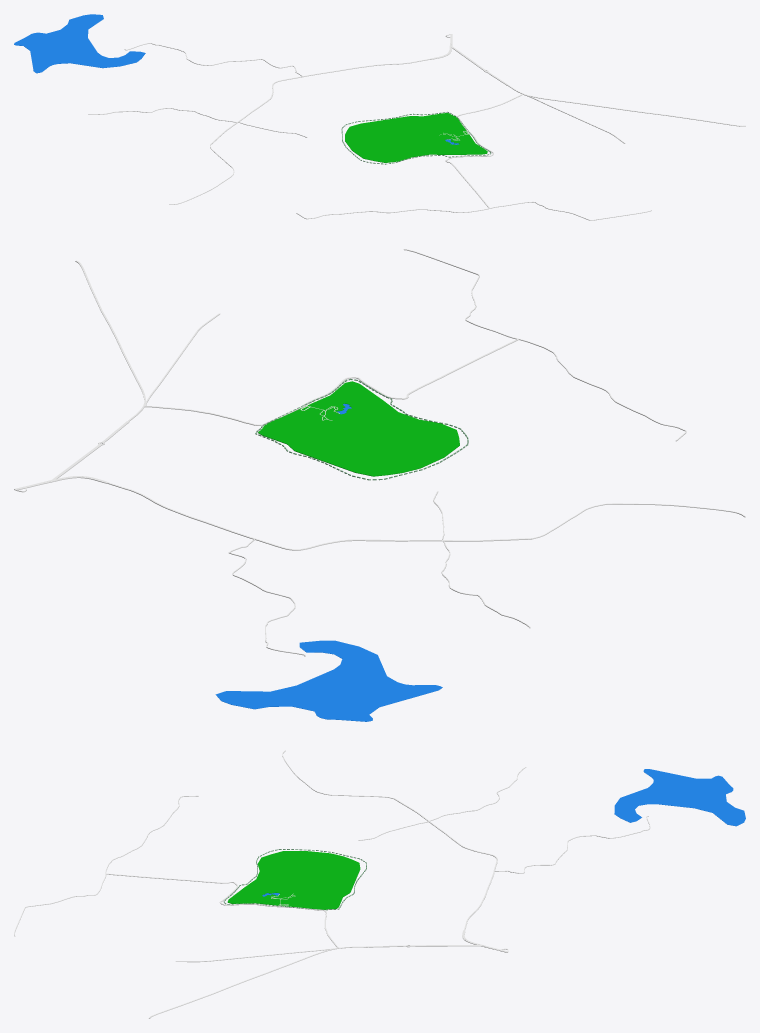
3 views of the same model, one above another, from view 1: azimuth 30°, elevation 25°; view 2: azimuth 150°, elevation 25°; view 3: azimuth 270°, elevation 25° (orthographic). The views are drawn at different scales.
Visible parts, largest first — view 1: green, water, R8, R4, R2, LK; view 2: green, water, R8, R4, R2; view 3: green, water, R8, R4, R2.
Boxes of the visible parts, left/top/right/bottom form: green: left=345, top=113, right=487, bottom=162; water: left=14, top=14, right=458, bottom=144; R8: left=88, top=34, right=651, bottom=220; R4: left=445, top=46, right=745, bottom=208; R2: left=210, top=34, right=452, bottom=144; LK: left=341, top=111, right=491, bottom=164; green: left=258, top=381, right=459, bottom=476; water: left=215, top=403, right=442, bottom=721; R8: left=15, top=249, right=745, bottom=656; R4: left=52, top=260, right=518, bottom=479; R2: left=14, top=476, right=531, bottom=550; green: left=227, top=851, right=360, bottom=909; water: left=262, top=769, right=745, bottom=896; R8: left=14, top=750, right=650, bottom=951; R4: left=106, top=873, right=480, bottom=1018; R2: left=394, top=798, right=507, bottom=952.
Size of the model in its own units: 48.53 by 0.051 by 56.05.
